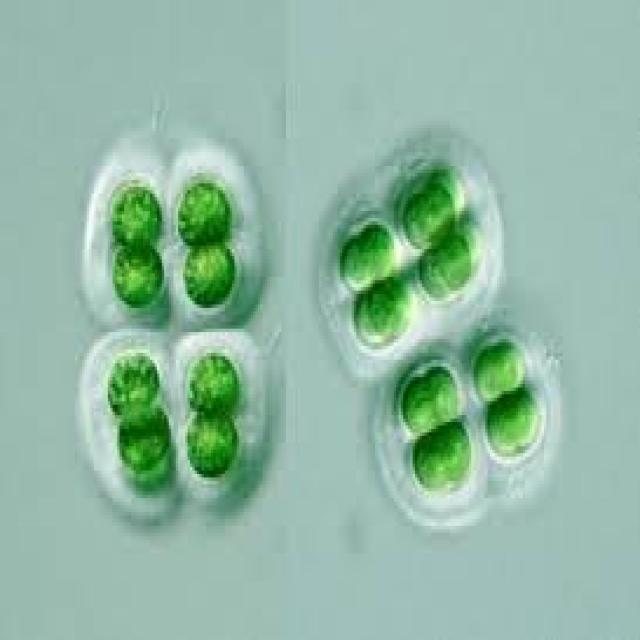Blue Green Algae: (185, 405, 239, 481), (185, 349, 242, 418), (183, 242, 237, 312), (105, 180, 162, 246), (115, 405, 171, 470), (176, 180, 232, 242), (112, 242, 166, 305), (108, 350, 159, 415), (354, 287, 391, 346), (359, 221, 396, 277), (426, 176, 462, 232), (508, 391, 542, 450), (424, 363, 462, 415), (375, 280, 410, 336), (412, 432, 446, 488), (438, 422, 472, 477), (340, 235, 373, 291), (420, 249, 454, 301), (492, 342, 528, 391), (485, 401, 516, 457), (401, 374, 434, 426), (401, 194, 431, 249), (446, 228, 478, 277), (474, 346, 502, 401)
